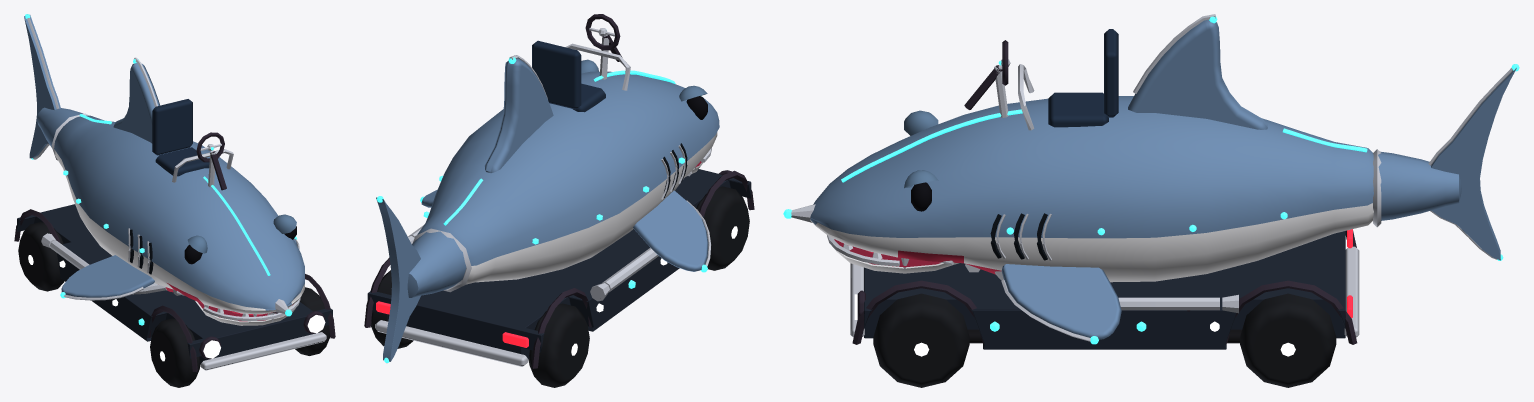
The model's file is dune_chomper_lo.glb.
3 views of the same model, side by side, from view 1: azimuth 30°, elevation 25°; view 2: azimuth 150°, elevation 25°; view 3: azimuth 270°, elevation 25° (orthographic). The views are drawn at different scales.
Visible parts, largest first — view 1: hull, platform, pec_0, wheel_FR_tyre, wheel_RR_tyre, seat_back, dorsal, tail_fin, bumper_1, seat_cushion, tail_stock, wheel_FL_tyre (+12 smaller); view 2: hull, platform, pec_0, dorsal, wheel_RR_tyre, tail_fin, wheel_FR_tyre, tail_stock, seat_back, bumper_0, fender_3, pipe_0 (+8 smaller); view 3: hull, platform, dorsal, wheel_RL_tyre, wheel_FL_tyre, pec_1, tail_fin, tail_stock, seat_cushion, pipe_1, seat_back, fender_0 (+5 smaller).
Boxes of the visible parts, box(x1,y1,x2,y2) form: hull: box(54, 115, 304, 314); platform: box(17, 204, 332, 364); pec_0: box(61, 255, 154, 297); wheel_FR_tyre: box(150, 318, 200, 387); wheel_RR_tyre: box(18, 222, 64, 291); seat_back: box(152, 99, 192, 155); dorsal: box(113, 63, 159, 143); tail_fin: box(24, 15, 60, 158); bumper_1: box(200, 332, 326, 370); seat_cushion: box(155, 147, 209, 176); tail_stock: box(36, 107, 83, 147); wheel_FL_tyre: box(295, 287, 330, 355); hull: box(417, 71, 719, 284); platform: box(367, 169, 751, 359); pec_0: box(633, 190, 708, 271); dorsal: box(484, 58, 553, 172); wheel_RR_tyre: box(528, 303, 589, 387); tail_fin: box(376, 197, 420, 361); wheel_FR_tyre: box(696, 186, 749, 270); tail_stock: box(391, 231, 466, 297); seat_back: box(532, 40, 581, 109); bumper_0: box(375, 320, 528, 366); fender_3: box(531, 288, 591, 368); pipe_0: box(602, 247, 658, 292); hull: box(810, 96, 1373, 282); platform: box(864, 231, 1345, 349); dorsal: box(1128, 19, 1267, 129); wheel_RL_tyre: box(1240, 293, 1336, 387); wheel_FL_tyre: box(873, 293, 969, 387); pec_1: box(1001, 264, 1121, 339); tail_fin: box(1431, 67, 1516, 260); tail_stock: box(1378, 151, 1461, 220); seat_cushion: box(1048, 92, 1108, 127); pipe_1: box(995, 271, 1219, 310); seat_back: box(1104, 29, 1118, 117); fender_0: box(852, 280, 983, 344).
Size of the model in its own units: 3.61 by 3.43 by 7.03.
